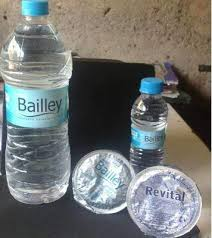Bailley: (16, 93, 70, 121), (141, 134, 163, 145)
plastic: (5, 45, 66, 195), (139, 175, 192, 234), (81, 164, 123, 204), (137, 107, 160, 166)
